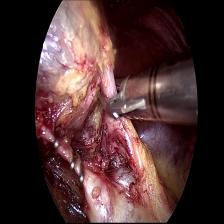Clipper: (96, 58, 161, 125)
